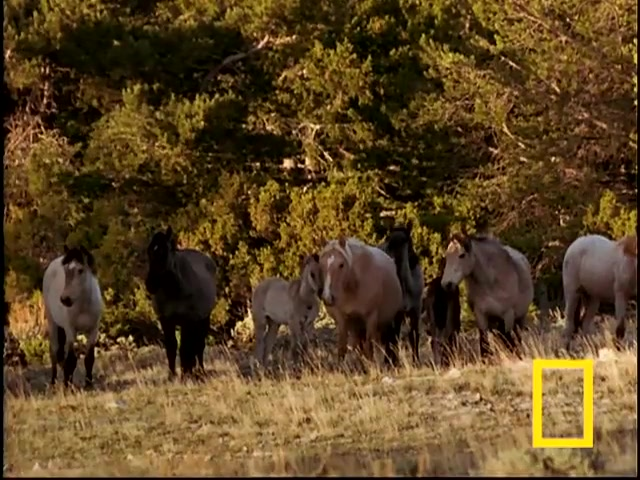horse: (441, 232, 535, 365)
